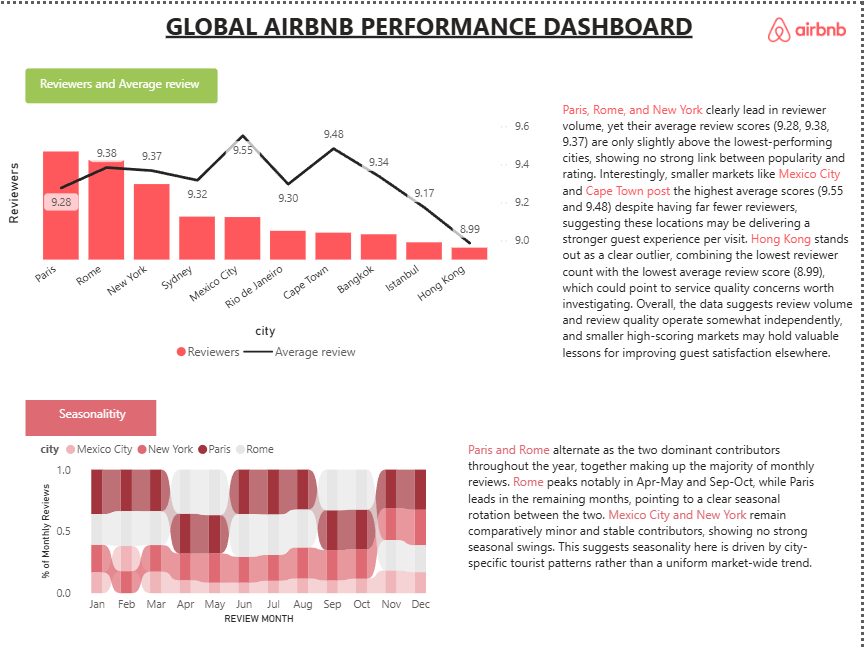

The page's visual inventory and layout, read from the dashboard file:
{"tool":"powerbi","page":{"name":"Review","canvas":[960,720],"ordinal":2},"visuals":[{"type":"textbox","box":[151.5,0,656.9,109.8],"z":0},{"type":"image","box":[849.4,14.3,100.2,27],"z":1000},{"type":"textbox","box":[31.7,71.7,213.3,38.3],"z":2000},{"type":"textbox","box":[114.5,281.5,135.2,36.6],"z":3000},{"type":"lineStackedColumnComboChart","fields":{"Category":["Listings.city"],"Y":["Listings.Reviewers"],"Y2":["Listings.Average review"]},"box":[10,121.7,581.7,278.3],"z":5000},{"type":"textbox","box":[623.3,101.7,336.7,358.3],"z":6000},{"type":"ribbonChart","fields":{"Series":["Listings.city"],"Category":["Reviews.REVIEW MONTH"],"Y":["Listings.% of Monthly Reviews"]},"box":[43.3,475,451.7,218.3],"z":6001},{"type":"textbox","box":[518.3,480,400,218.3],"z":6002},{"type":"textbox","box":[31.7,440,145,40],"z":6003}]}

Visuals, with their boxes in screenshot pixels (x1, y1, x2, y2), scaled from the page's 960x720 canvas onto the 865x651 screenshot:
textbox: locate(137, 0, 728, 99)
image: locate(765, 13, 856, 37)
textbox: locate(29, 65, 221, 99)
textbox: locate(103, 255, 225, 288)
lineStackedColumnComboChart - Listings.city x Listings.Reviewers: locate(9, 110, 533, 362)
textbox: locate(562, 92, 864, 416)
ribbonChart - Listings.city x Reviews.REVIEW MONTH: locate(39, 429, 446, 627)
textbox: locate(467, 434, 827, 631)
textbox: locate(29, 398, 159, 434)
